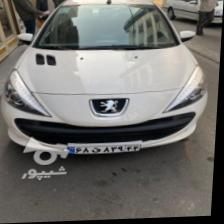plate: (68, 143, 141, 155)
